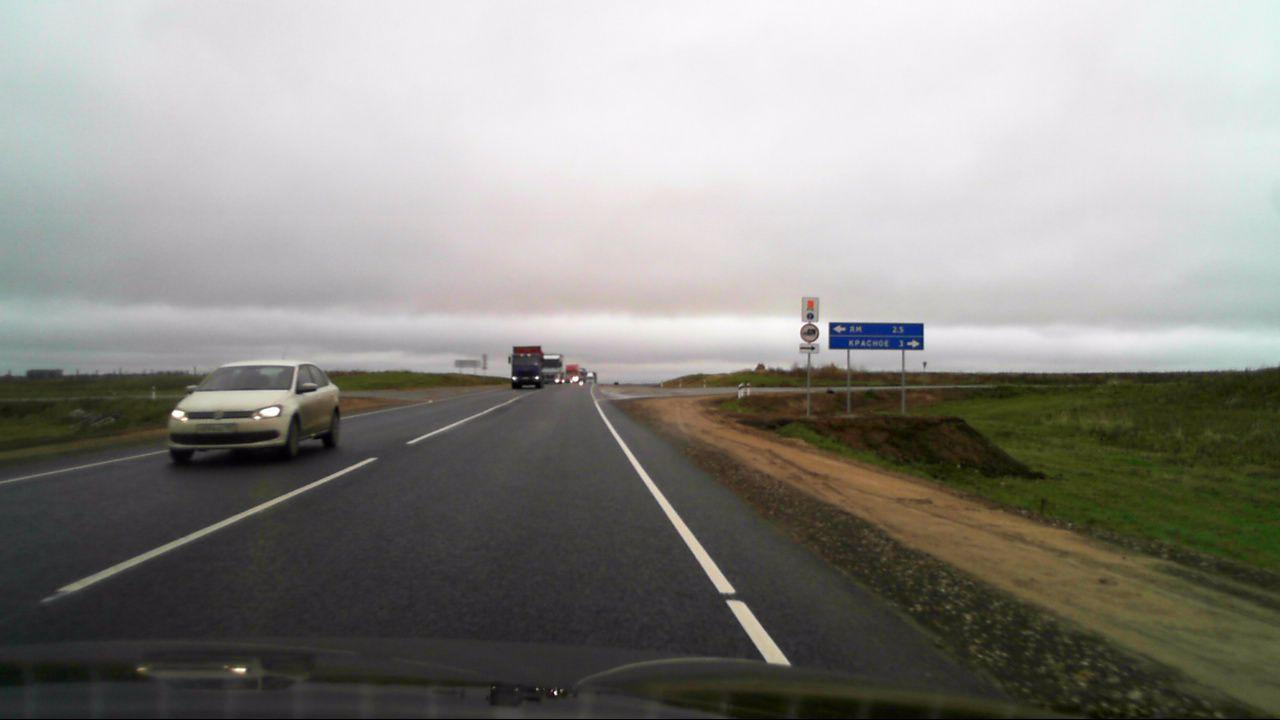3_4: (800, 323, 819, 341)
4_8_1: (801, 296, 819, 322)
8_3_1: (799, 343, 820, 353)
